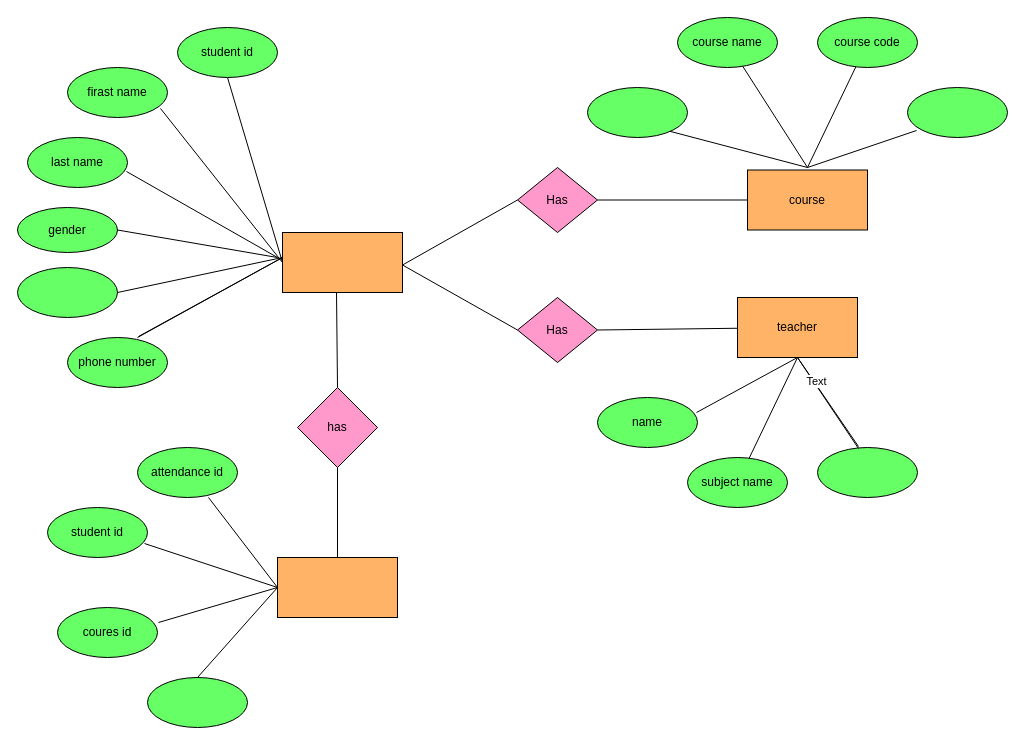
Image size: 1025x745. Some labels were removed from this diagram. Each missing label, with the centre of its shape:
attendance: point 337,587
course id: point 637,112
date: point 197,702
date of birth: point 67,292
department: point 957,112
phone: point 867,472
student: point 342,262
